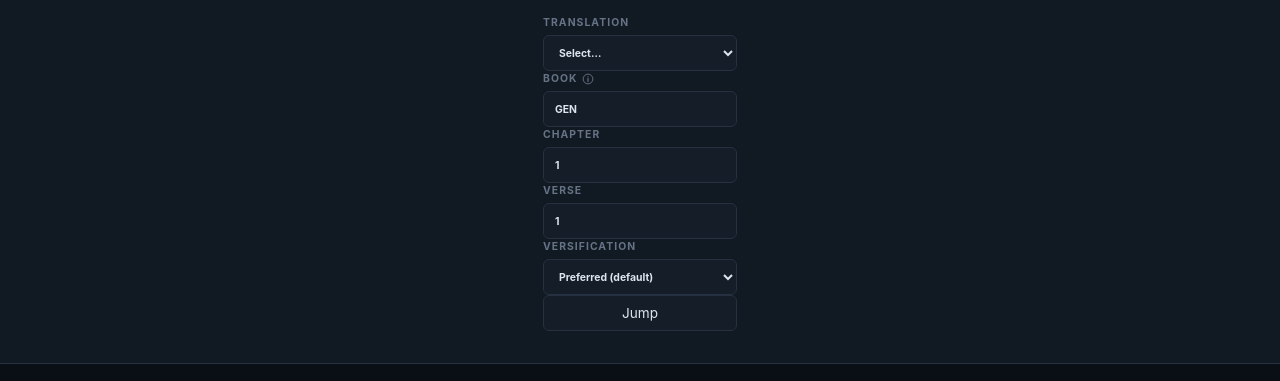
ColumnChrome book jump indicators › suffixes flagged books and exposes legend via info tooltip
Expected: the button named "Book mapping indicator legend" is shown, [582, 72, 594, 85]
Click the dropdown named "left book" at (640, 109), box [543, 91, 737, 127]
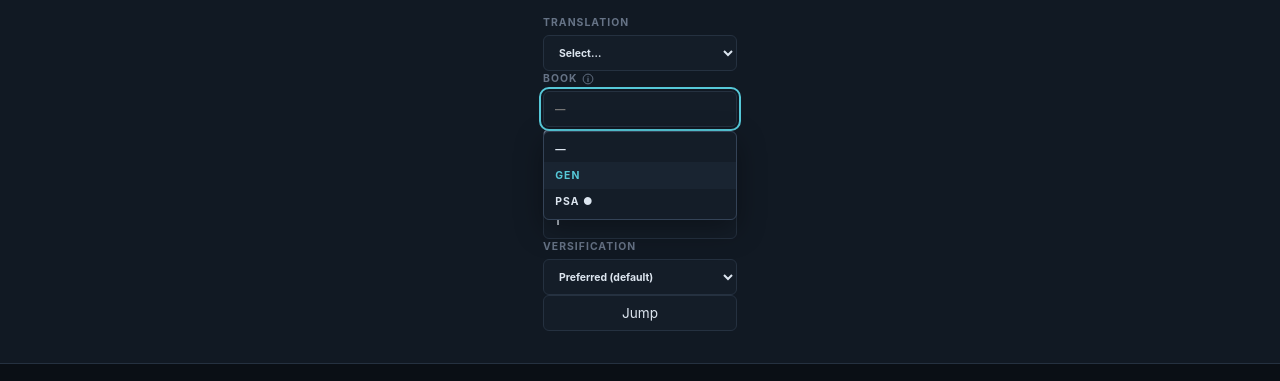
Result: the option "PSA ●" is shown at [555, 195, 594, 208]
Result: the option "GEN" is shown at [544, 162, 736, 189]
